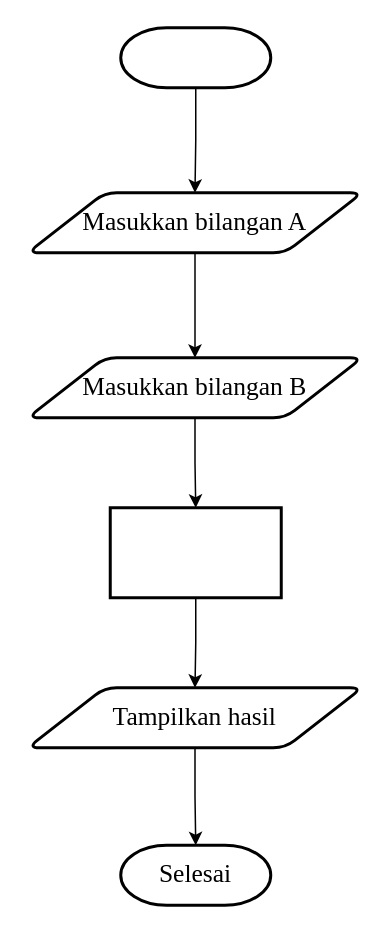
Some shapes in this 389 by 932 pixel diagram are drawn without their labels. The shapes that lost their labels are listed below. From the top down, each one's centre as x and y in pixels, then its label:
At point (195, 57): "Mulai".
At point (195, 552): "Hasil = A+B".
